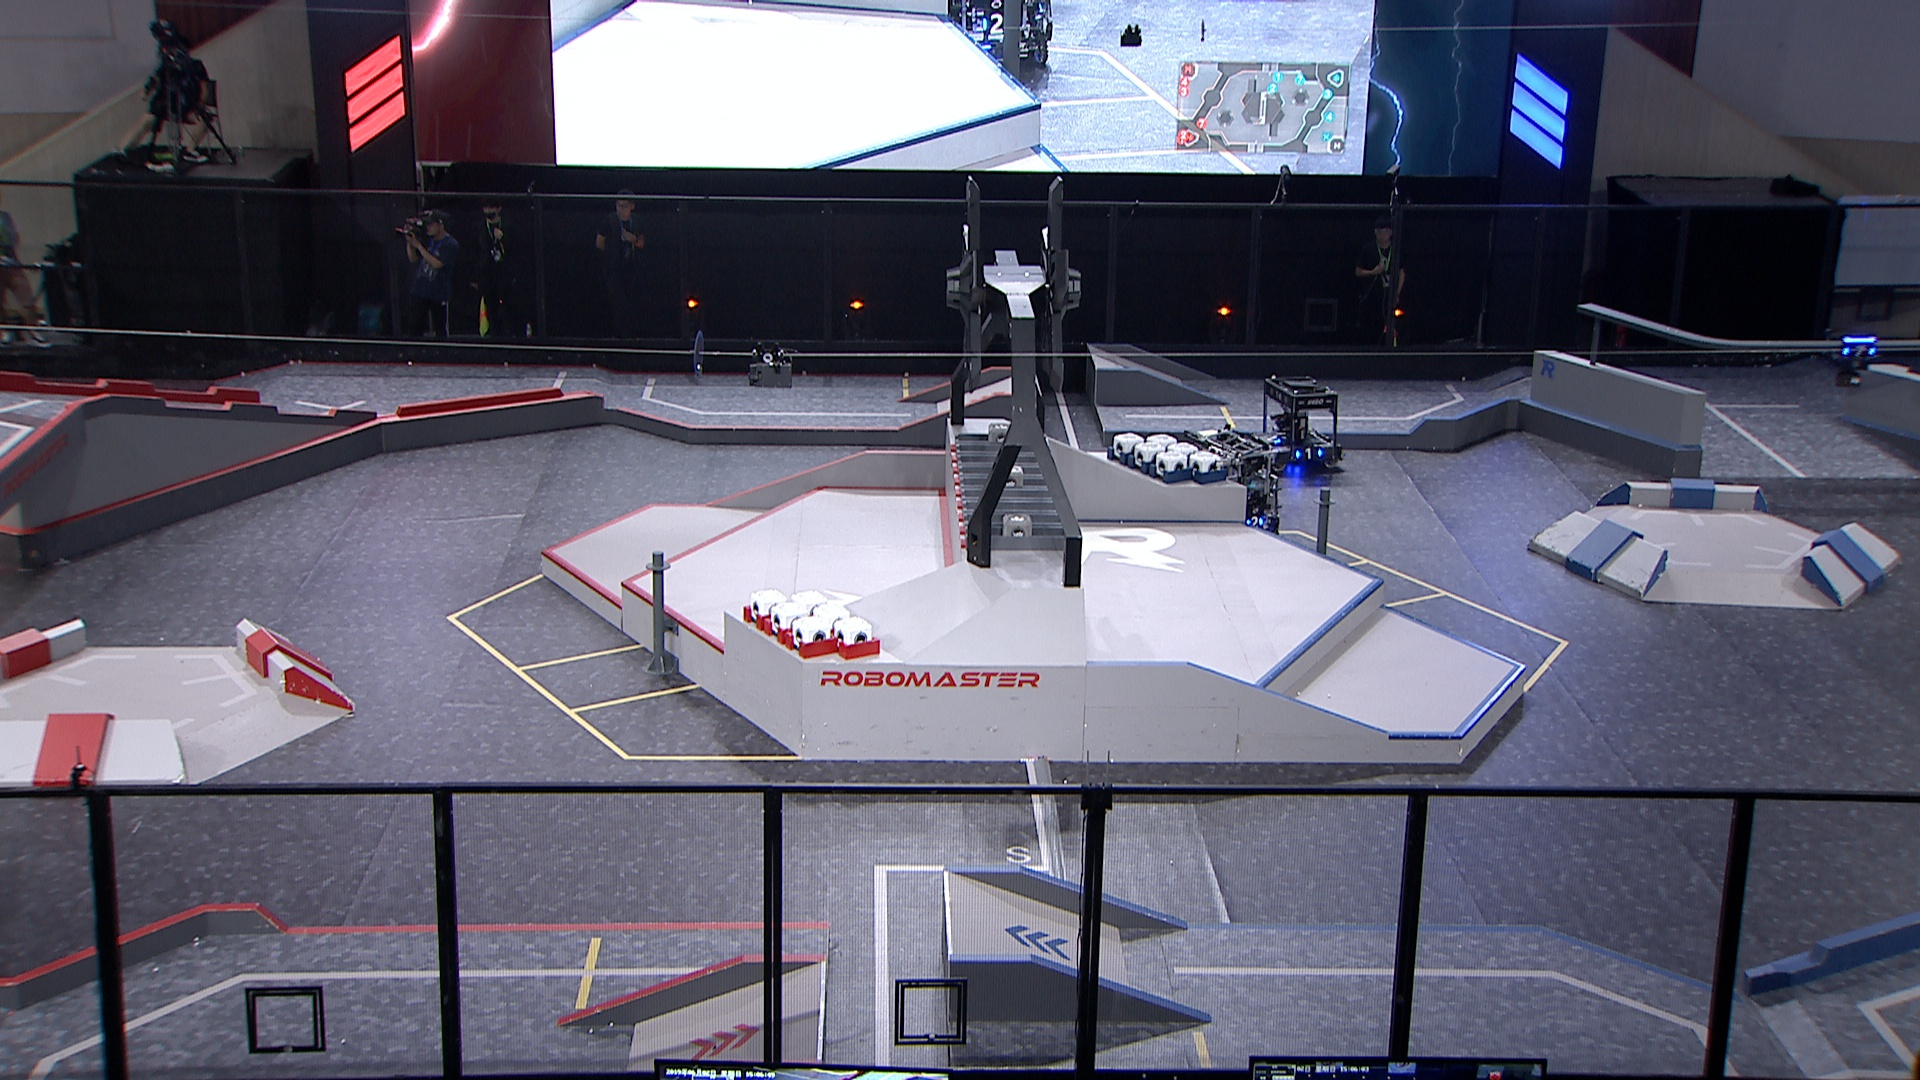armor: (1292, 444, 1324, 462), (1841, 342, 1875, 353), (1267, 431, 1287, 450), (1244, 510, 1263, 527)
car: (1183, 422, 1287, 542), (1250, 375, 1346, 475)
watcher: (1828, 328, 1882, 392)
